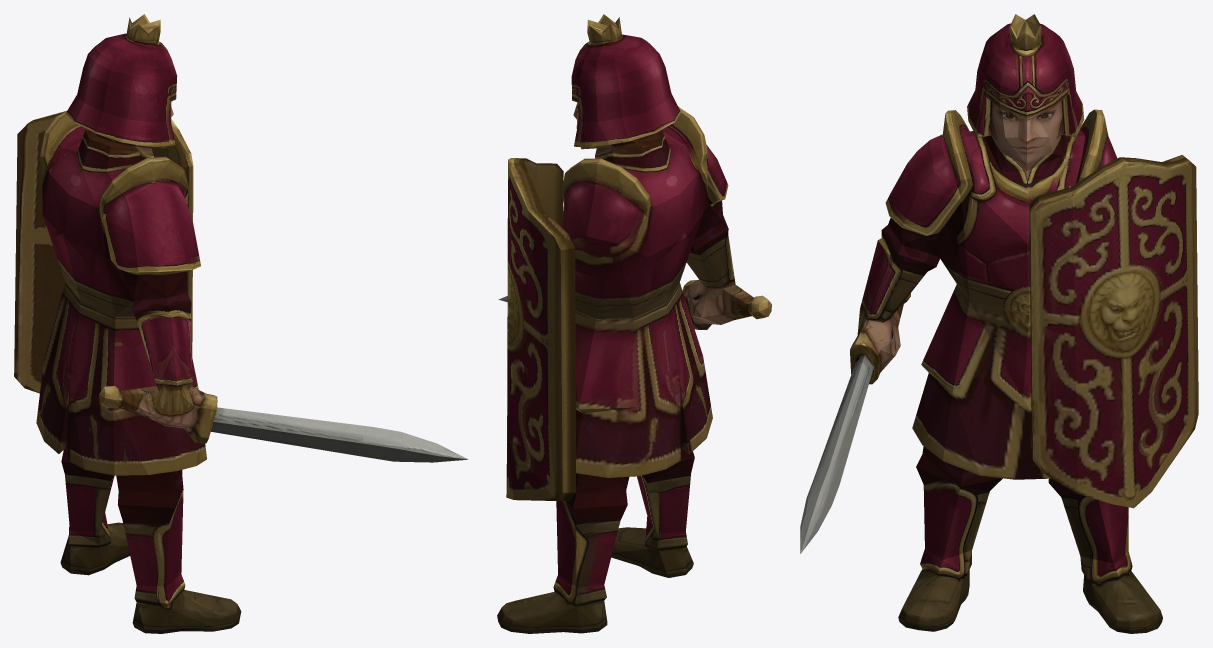
The model's file is 紅盾兵+3D+model_1K.glb.
3 views of the same model, side by side, from view 1: azimuth 30°, elevation 25°; view 2: azimuth 150°, elevation 25°; view 3: azimuth 270°, elevation 25° (orthographic). The views are drawn at different scales.
Visible parts, largest first — view 1: tripo_node_0a7c4ceb-c6f4-45da-94bf-49a687b18241; view 2: tripo_node_0a7c4ceb-c6f4-45da-94bf-49a687b18241; view 3: tripo_node_0a7c4ceb-c6f4-45da-94bf-49a687b18241.
Part boxes in pixels (x1=…): tripo_node_0a7c4ceb-c6f4-45da-94bf-49a687b18241: x1=14, y1=14, x2=467, y2=633; tripo_node_0a7c4ceb-c6f4-45da-94bf-49a687b18241: x1=497, y1=14, x2=771, y2=633; tripo_node_0a7c4ceb-c6f4-45da-94bf-49a687b18241: x1=800, y1=14, x2=1198, y2=633.
Bounding box in the file's own units: 0.584 × 0.998 × 0.6113.
Materials: 1 (1 with a texture image).
